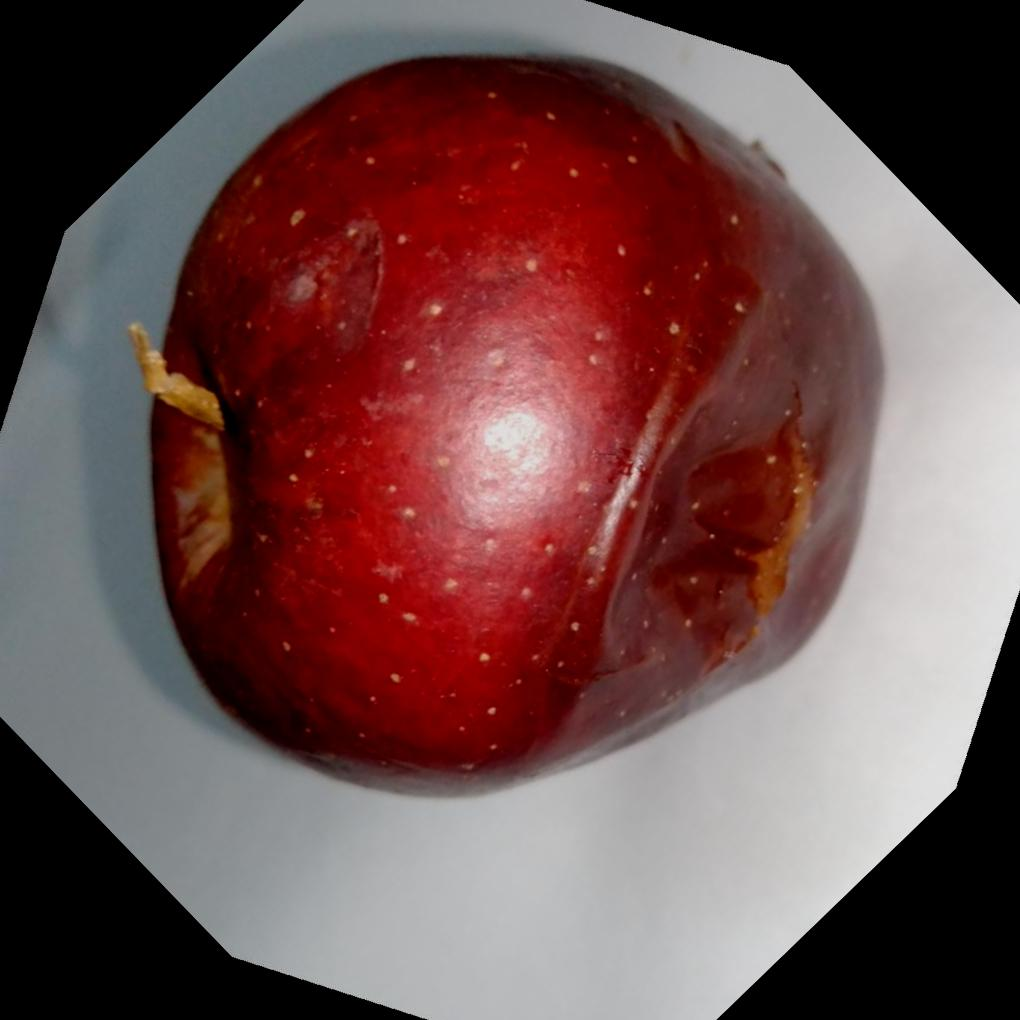FreshOrange: (128, 51, 885, 802)
